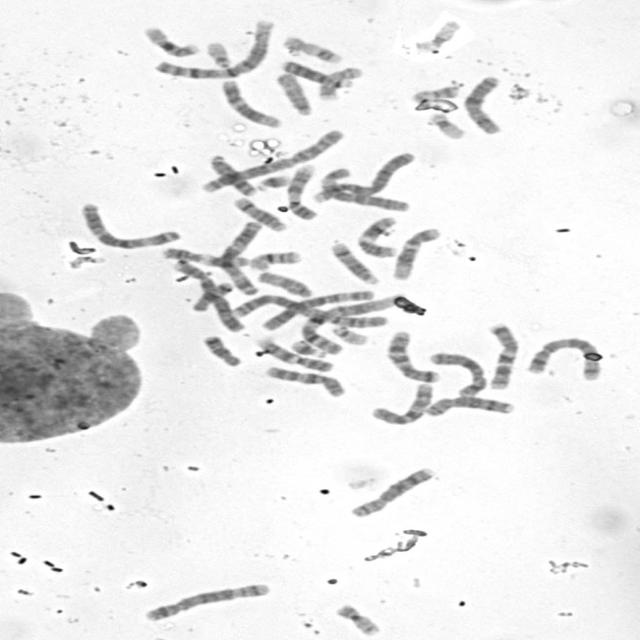A1: (150, 16, 276, 80), (291, 292, 399, 356)
A2: (197, 126, 349, 195), (226, 290, 392, 330)
A3: (76, 199, 183, 249), (217, 218, 266, 296)
B4: (166, 254, 248, 334), (308, 148, 418, 205)
B5: (138, 579, 273, 622), (522, 334, 605, 382)
C10: (366, 380, 436, 426), (260, 362, 349, 398)
C11: (353, 213, 401, 259), (158, 244, 252, 267)
C12: (216, 76, 284, 129), (388, 224, 444, 281)
C6: (252, 288, 380, 331), (314, 164, 413, 213)
C7: (382, 327, 444, 383), (483, 320, 521, 390)
C8: (346, 464, 438, 520), (420, 392, 517, 418)
C9: (251, 335, 334, 373), (282, 160, 320, 221)
D13: (277, 57, 356, 89), (207, 152, 260, 197)
D14: (326, 238, 382, 286), (229, 194, 289, 232)
D15: (252, 267, 316, 299), (271, 70, 315, 116)
E16: (138, 22, 202, 58), (246, 247, 304, 272)
E17: (278, 32, 345, 64), (314, 64, 364, 100)
E18: (198, 331, 244, 368), (187, 278, 235, 312)
F19: (412, 16, 463, 52), (425, 110, 468, 140)
F20: (330, 600, 384, 637), (408, 82, 461, 102)
G21: (287, 336, 328, 358), (252, 170, 292, 192)
G22: (201, 37, 236, 69), (327, 322, 371, 346)
X: (424, 348, 490, 398), (460, 72, 506, 135)
